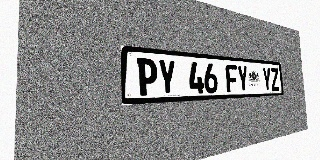4: (188, 61, 204, 94)
6: (203, 63, 218, 93)
F: (225, 64, 238, 92)
P: (137, 58, 158, 96)
Y: (157, 59, 177, 95), (237, 65, 249, 92), (262, 67, 272, 91)
Z: (270, 68, 280, 91)
